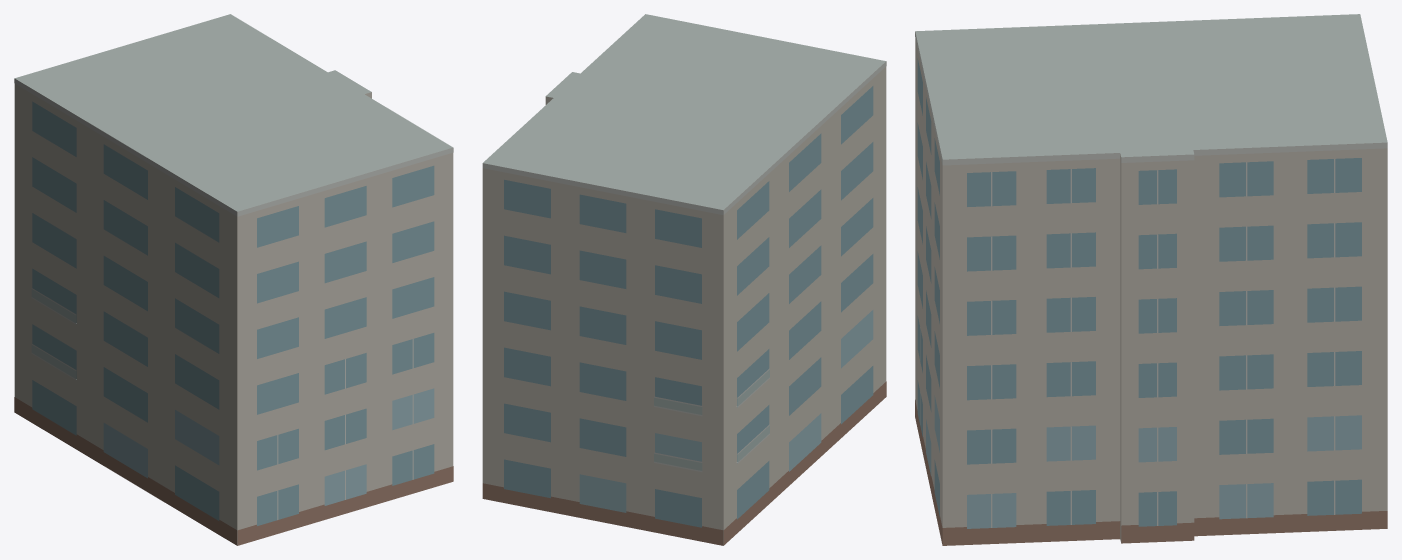
File: survey-upis-33037520.glb
3 views of the same model, side by side, from view 1: azimuth 30°, elevation 25°; view 2: azimuth 150°, elevation 25°; view 3: azimuth 270°, elevation 25° (orthographic). The views are drawn at different scales.
Visible parts, largest first — view 1: survey-upis-33037520.tmp; view 2: survey-upis-33037520.tmp; view 3: survey-upis-33037520.tmp.
Boxes of the visible parts, x1,y1,x2,y2 form: survey-upis-33037520.tmp: (14,14,453,545); survey-upis-33037520.tmp: (482,14,886,545); survey-upis-33037520.tmp: (915,14,1387,545).
Bounding box in the file's own units: 13.2 × 16.3 × 18.08.
